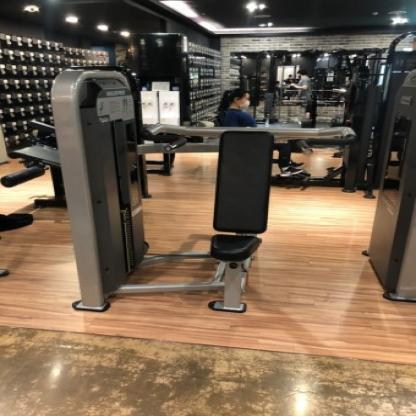shoulder press machine: (1, 60, 384, 331)
